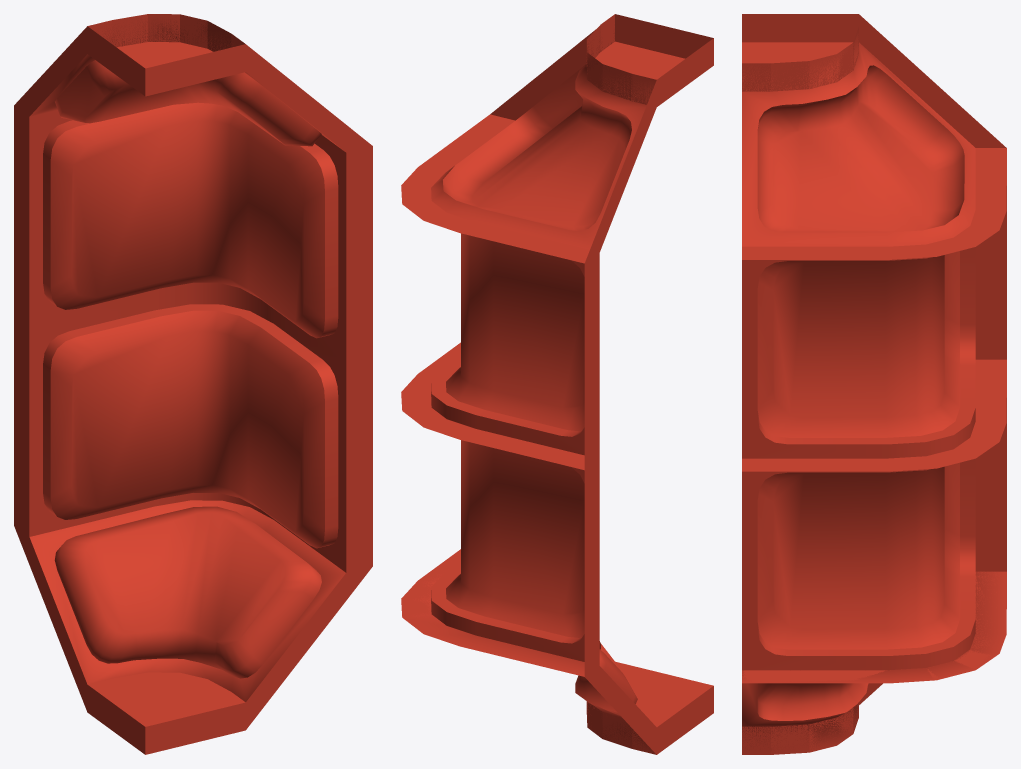
The model's file is CBig_Wall_ConerIn_A.FBX.
3 renders of one model, left to right at view 1: azimuth 30°, elevation 25°; view 2: azimuth 150°, elevation 25°; view 3: azimuth 270°, elevation 25°, orthographic. The views are drawn at different scales.
Parts seen in each view (by area): view 1: CBig_Wall_ConerIn_A; view 2: CBig_Wall_ConerIn_A; view 3: CBig_Wall_ConerIn_A.
Boxes of the visible parts, x1,y1,x2,y2 form: CBig_Wall_ConerIn_A: [14, 14, 372, 754]; CBig_Wall_ConerIn_A: [401, 14, 713, 754]; CBig_Wall_ConerIn_A: [742, 14, 1006, 754].
Size of the model in its own units: 170 by 490 by 170.
